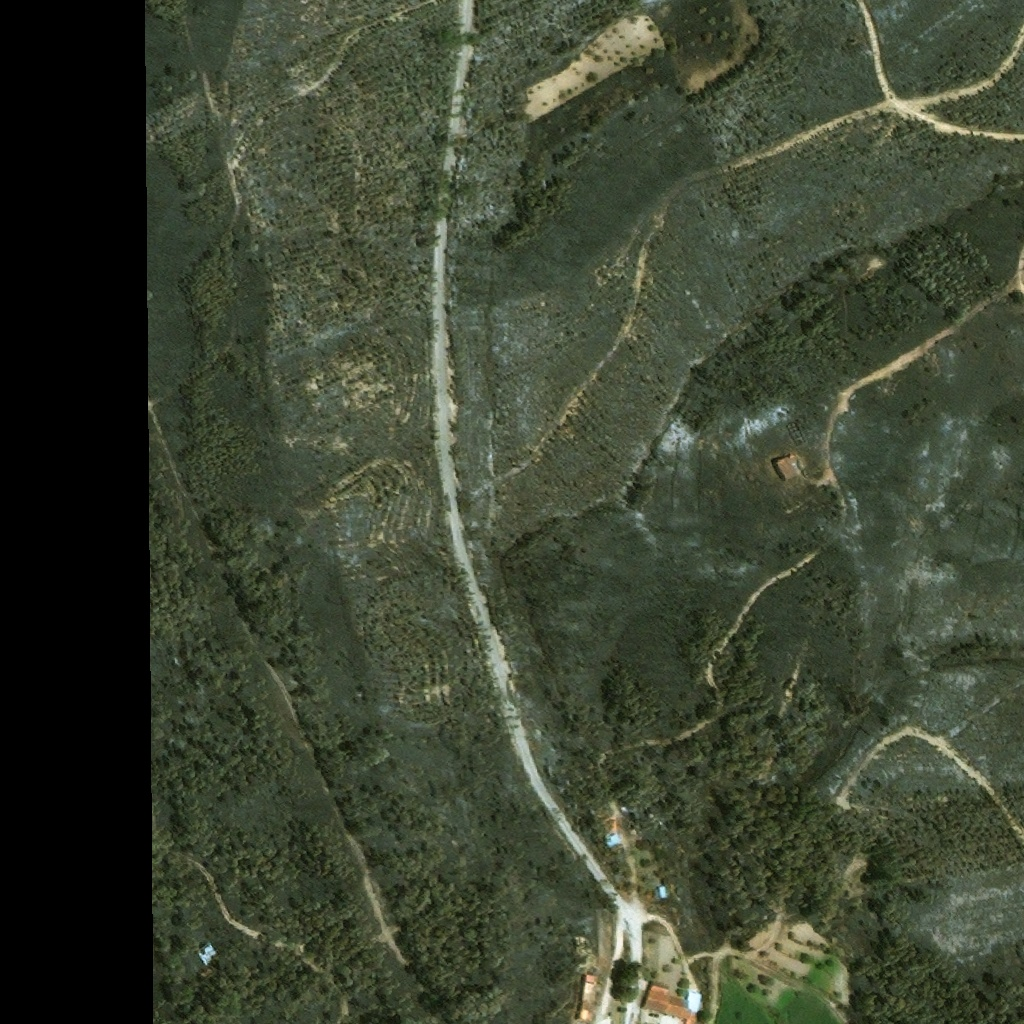0 no-damage: (639, 979, 699, 1023), (576, 973, 596, 1021), (770, 452, 799, 480), (192, 938, 218, 966), (607, 809, 624, 845), (657, 885, 665, 898)
